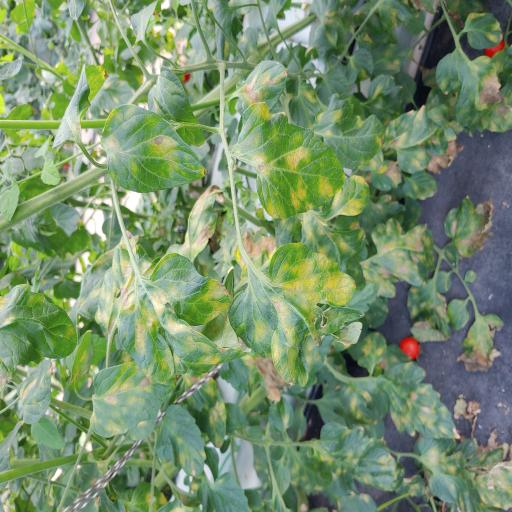disease_tomato: (228, 242, 366, 388), (118, 253, 252, 391), (234, 100, 346, 220), (102, 104, 208, 192), (90, 361, 176, 439), (312, 422, 406, 492), (380, 360, 462, 440), (435, 48, 512, 132), (359, 218, 436, 300), (156, 405, 206, 479), (185, 378, 228, 450), (14, 361, 52, 425)
